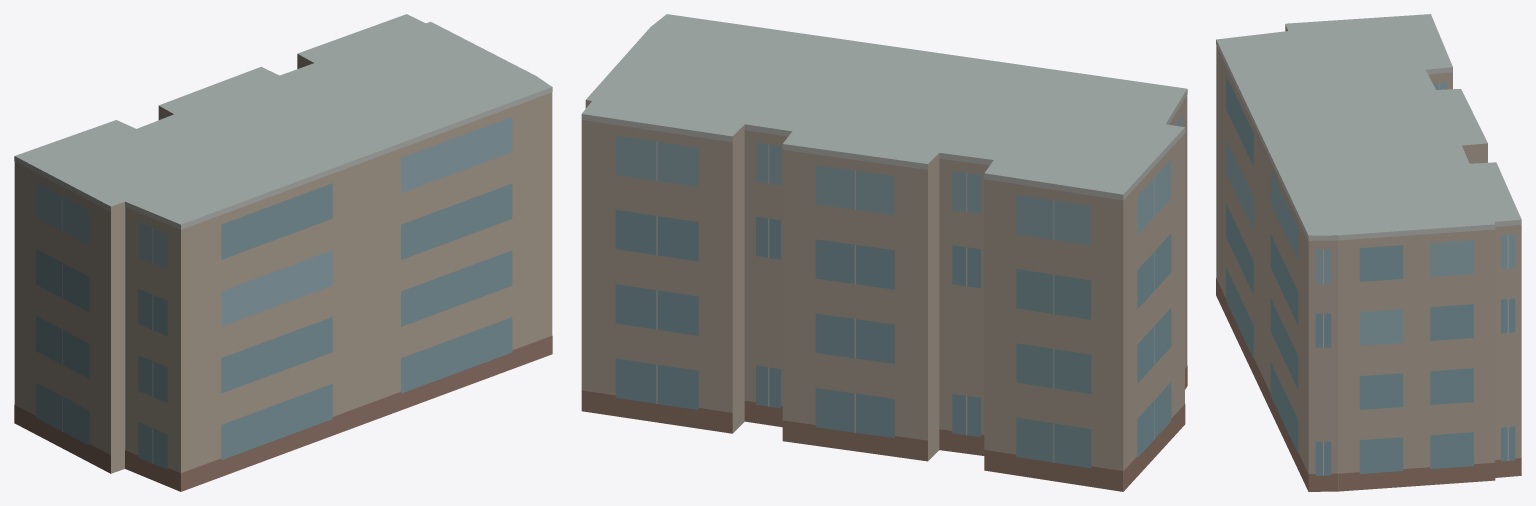
Rendered from survey-upis-32705580.glb.
The picture shows the model from 3 angles, left to right: view 1: azimuth 30°, elevation 25°; view 2: azimuth 150°, elevation 25°; view 3: azimuth 270°, elevation 25°; orthographic projection. The views are drawn at different scales.
Parts seen in each view (by area): view 1: survey-upis-32705580.tmp; view 2: survey-upis-32705580.tmp; view 3: survey-upis-32705580.tmp.
Part boxes in pixels (bbox=[...]): survey-upis-32705580.tmp: bbox=[14, 14, 552, 491]; survey-upis-32705580.tmp: bbox=[581, 14, 1187, 491]; survey-upis-32705580.tmp: bbox=[1216, 14, 1521, 491].
Size of the model in its own units: 22.85 by 12.3 by 13.31.
